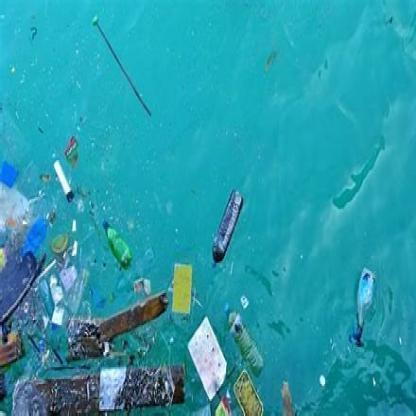plastic bottle: (223, 304, 265, 373), (350, 269, 374, 347), (101, 221, 131, 265)
